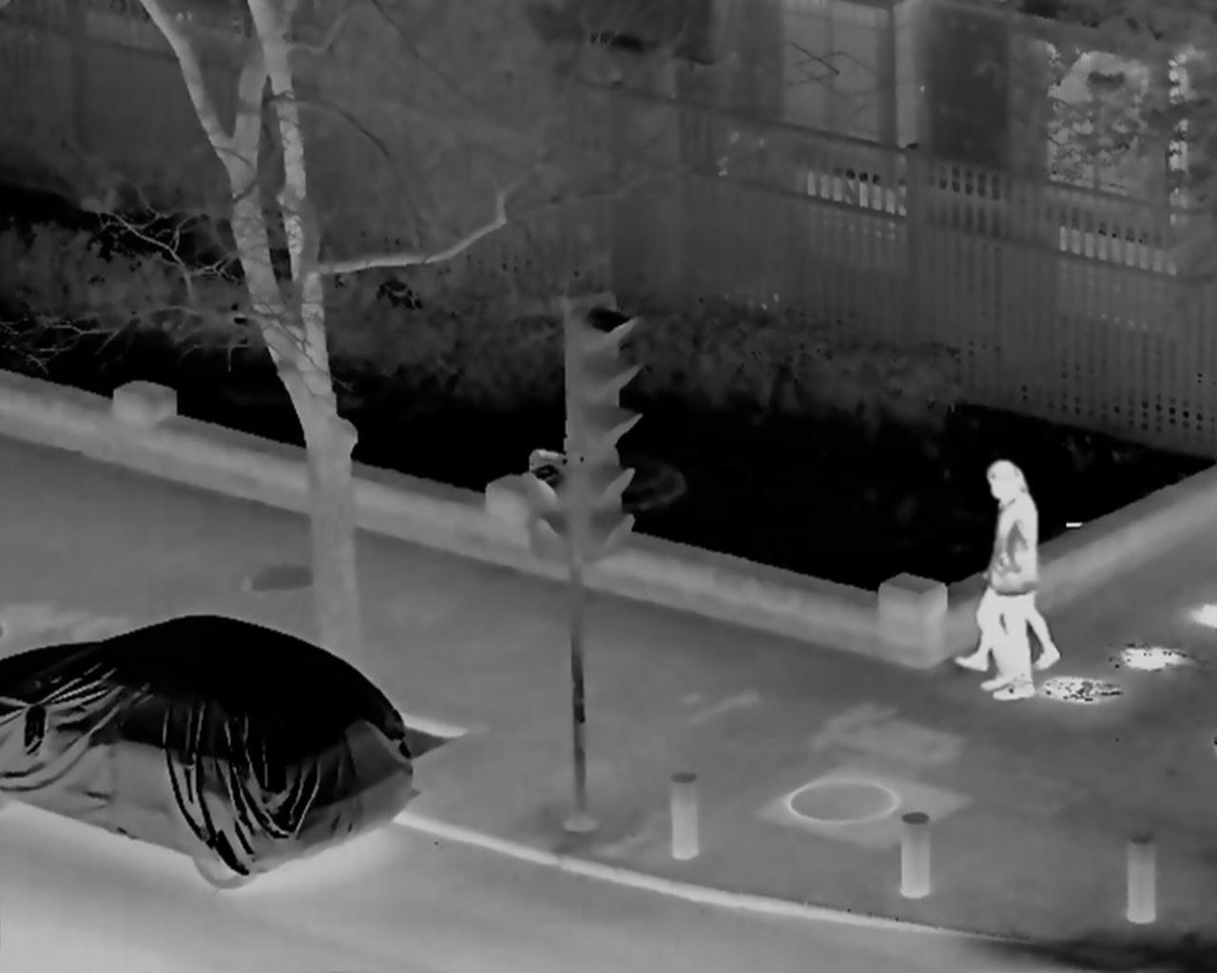person: (964, 460, 1059, 696)
